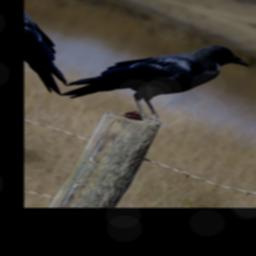Crow: (59, 12, 256, 142)
